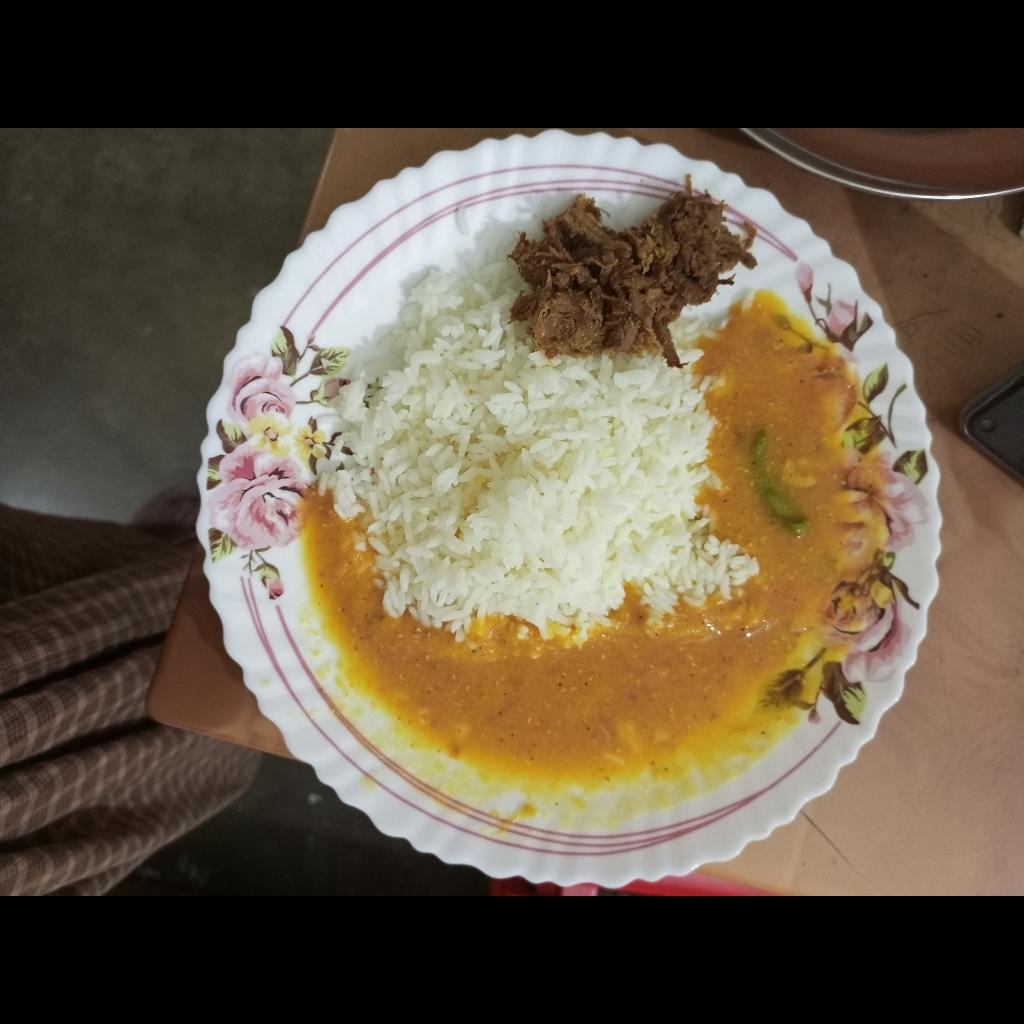beef: (509, 179, 765, 355)
daal: (301, 288, 865, 809)
rice: (319, 229, 761, 645)
